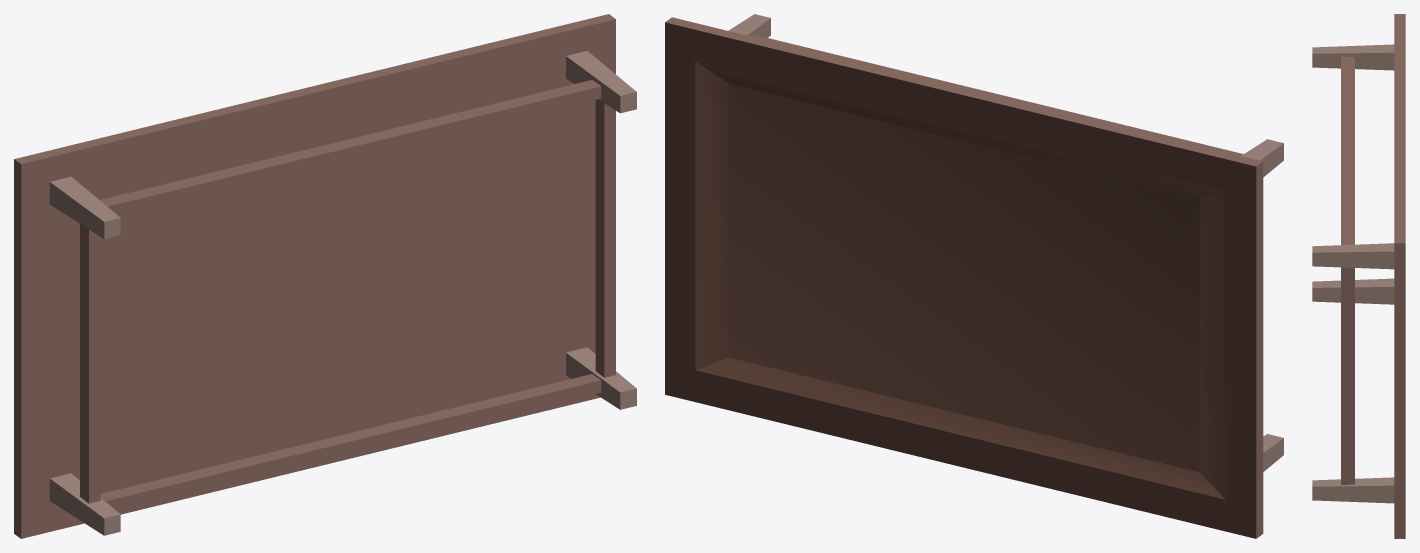
The model's file is coffee-table-b.glb.
3 views of the same model, side by side, from view 1: azimuth 30°, elevation 25°; view 2: azimuth 150°, elevation 25°; view 3: azimuth 270°, elevation 25° (orthographic). The views are drawn at different scales.
Visible parts, largest first — view 1: coffee_table_012; view 2: coffee_table_012; view 3: coffee_table_012.
Boxes of the visible parts, x1,y1,x2,y2 form: coffee_table_012: (14, 14, 636, 538); coffee_table_012: (665, 14, 1283, 538); coffee_table_012: (1312, 14, 1405, 538).
Size of the model in its own units: 1.72 by 1.03 by 0.2951.
Materials: 1 (1 with a texture image).
